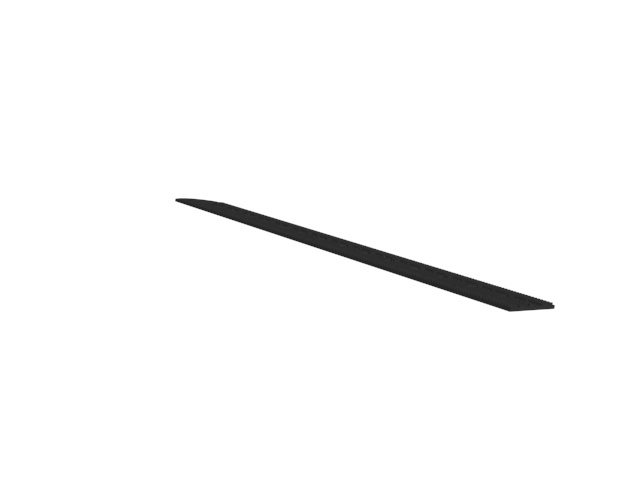ruler: (169, 193, 560, 312)
